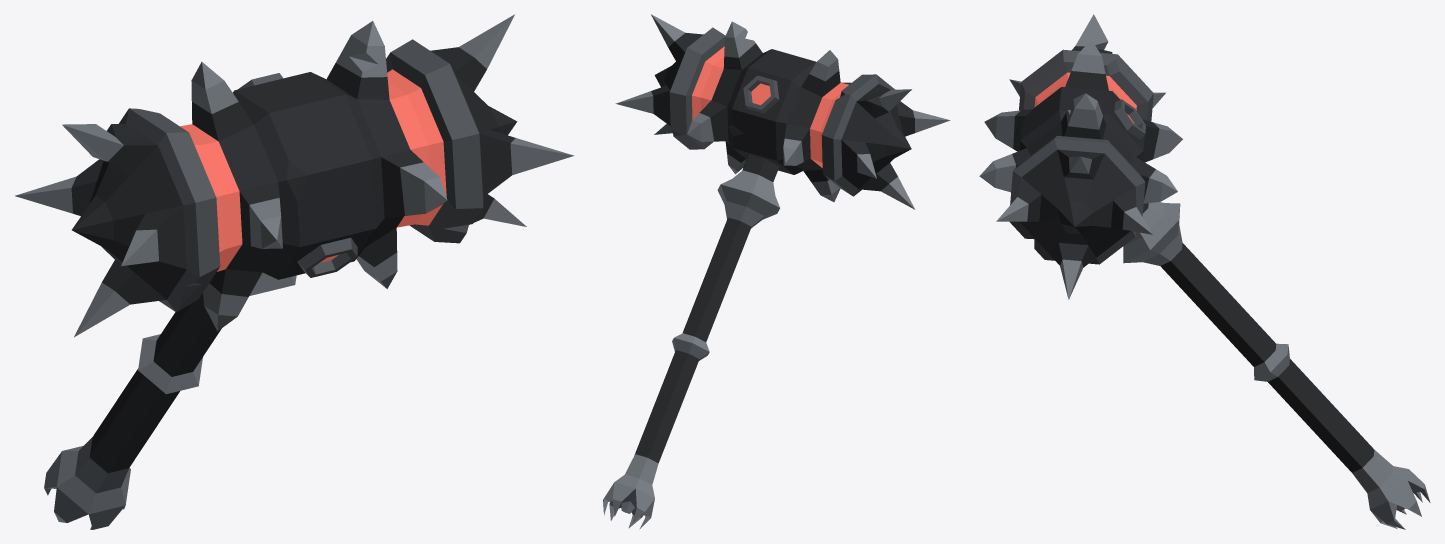
The model's file is dr-warhammer-large-04.glb.
3 renders of one model, left to right at view 1: azimuth 30°, elevation 25°; view 2: azimuth 150°, elevation 25°; view 3: azimuth 270°, elevation 25°, orthographic. The views are drawn at different scales.
Parts seen in each view (by area): view 1: dr-warhammer-large-04; view 2: dr-warhammer-large-04; view 3: dr-warhammer-large-04.
Boxes of the visible parts, bbox=[...] form: dr-warhammer-large-04: bbox=[15, 14, 574, 529]; dr-warhammer-large-04: bbox=[603, 14, 950, 529]; dr-warhammer-large-04: bbox=[979, 14, 1430, 529].
Bounding box in the file's own units: 0.6152 × 0.8612 × 0.7747.
Materials: 1 (1 with a texture image).
